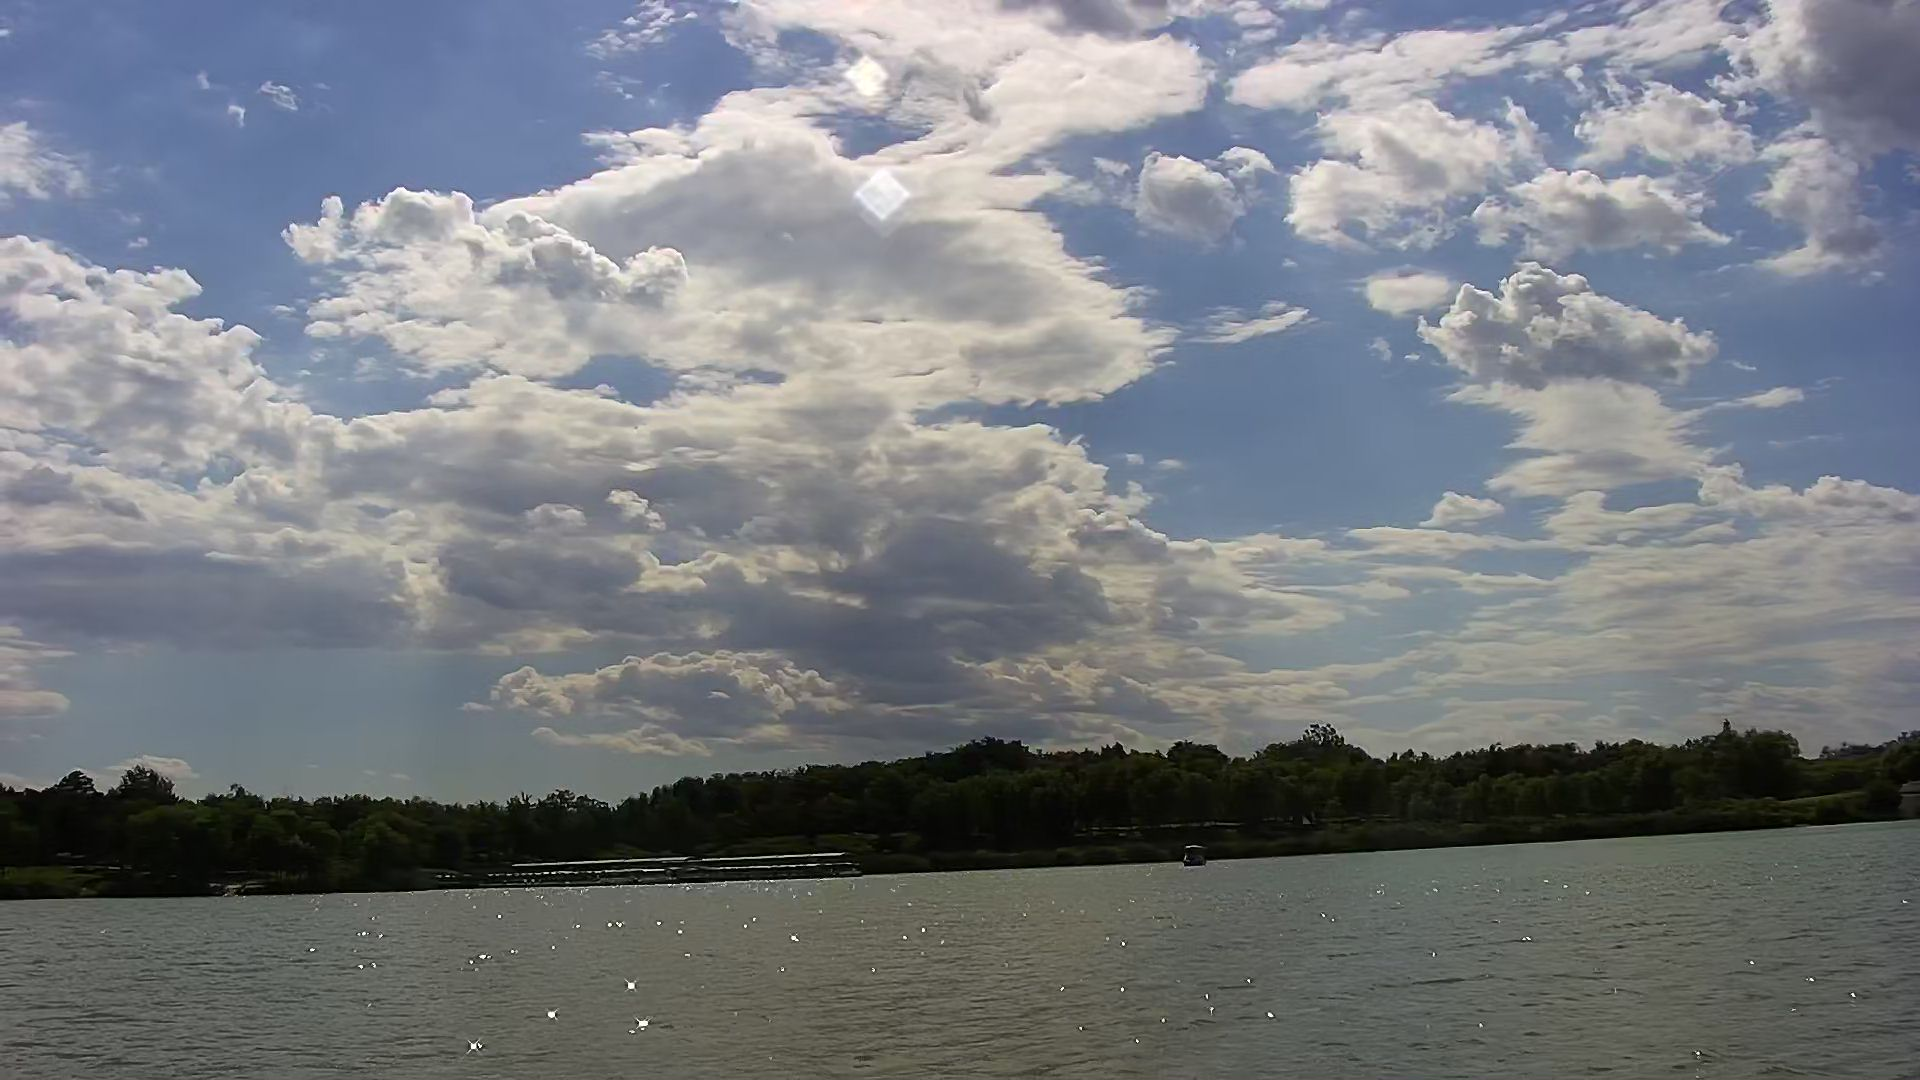boat: (1182, 843, 1205, 874)
harbor: (504, 845, 856, 890)
